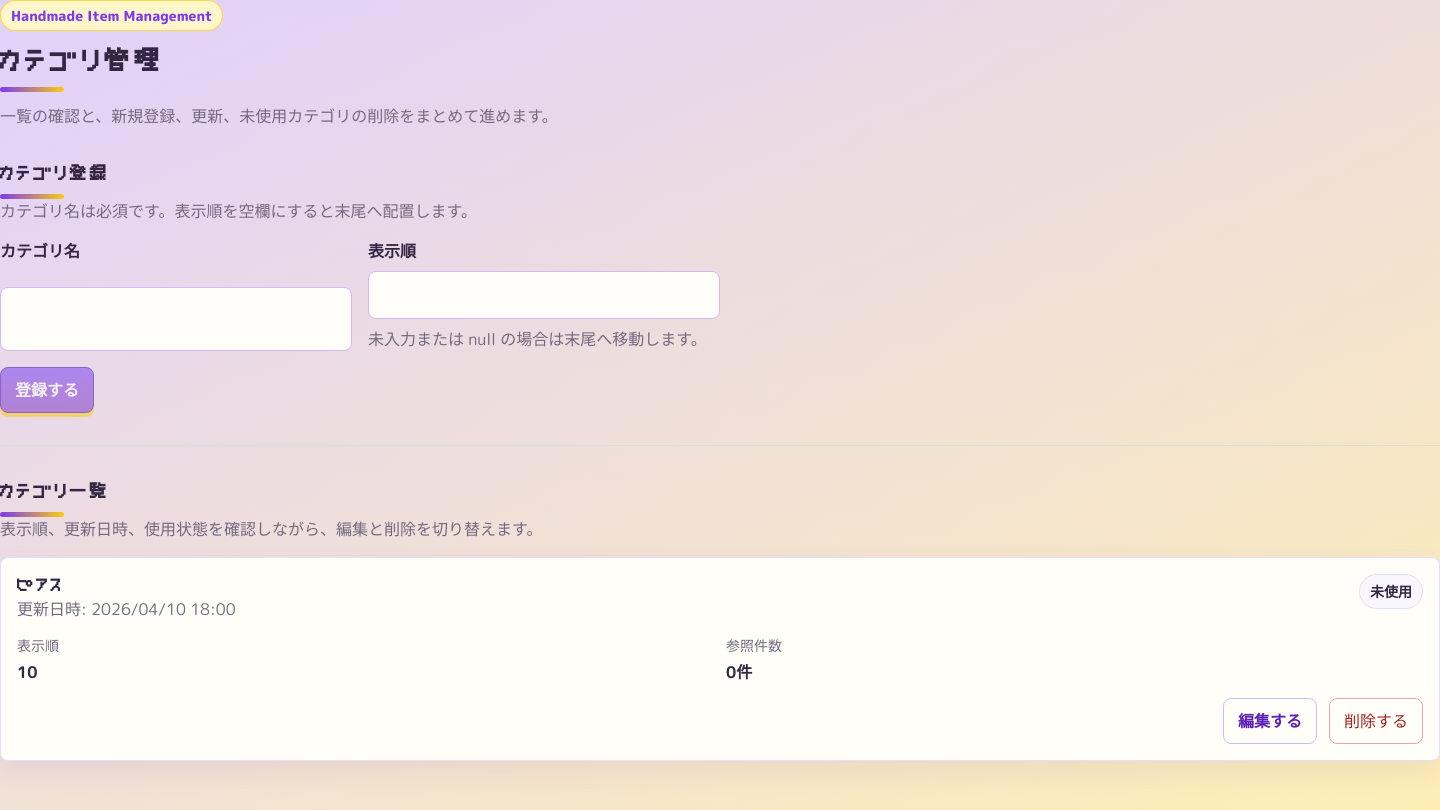
Test: CategoryManagementPage › loads the selected category into the form and updates it
Click the button "編集する": (1270, 721) [1223,698,1317,744]
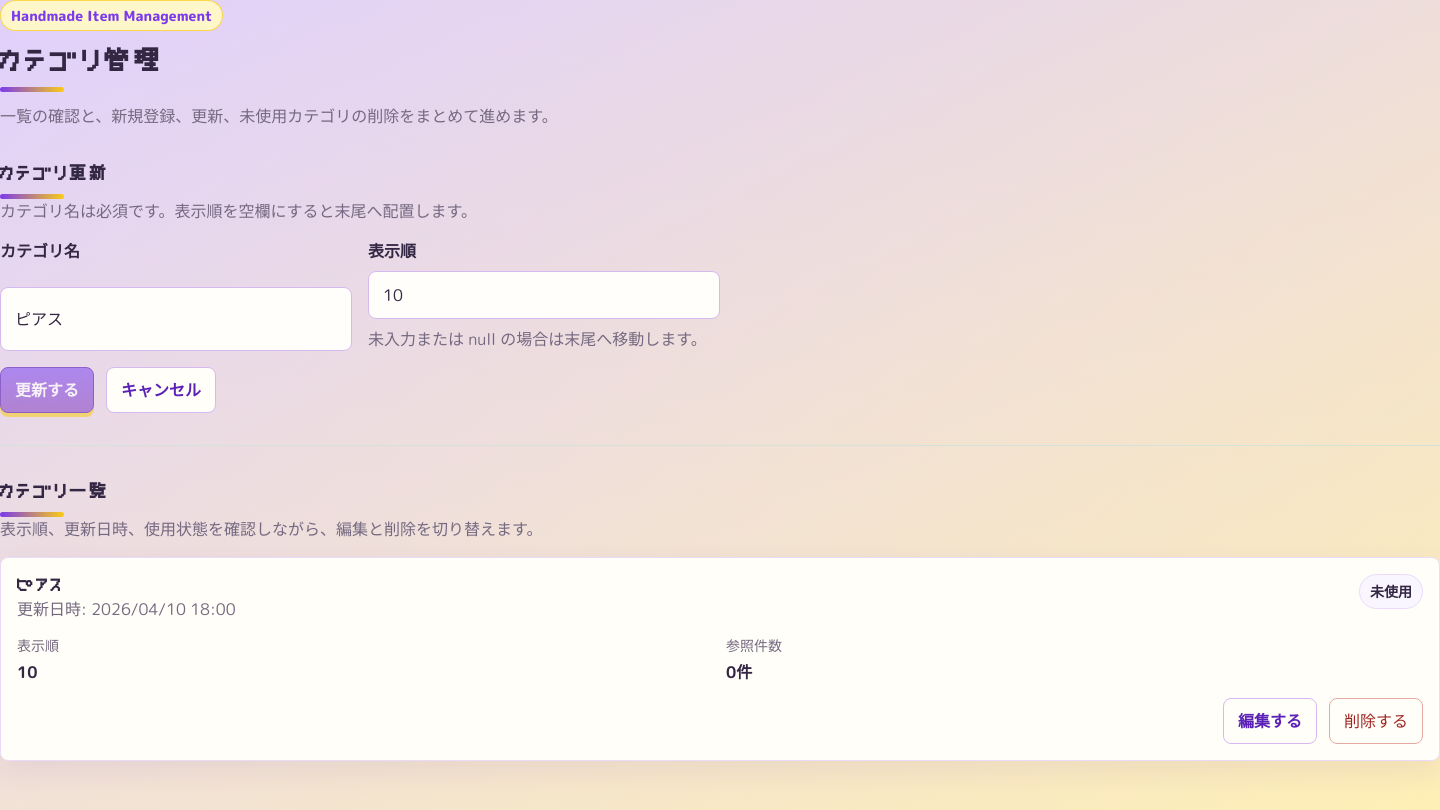
Expected: the field labelled "カテゴリ名" holds "ピアス"
Expected: the number field labelled "表示順" holds "10", [368,271,720,319]
Replace the text in the field labelled "カテゴリ名" with "イヤリング": (176, 319) [0,287,352,351]
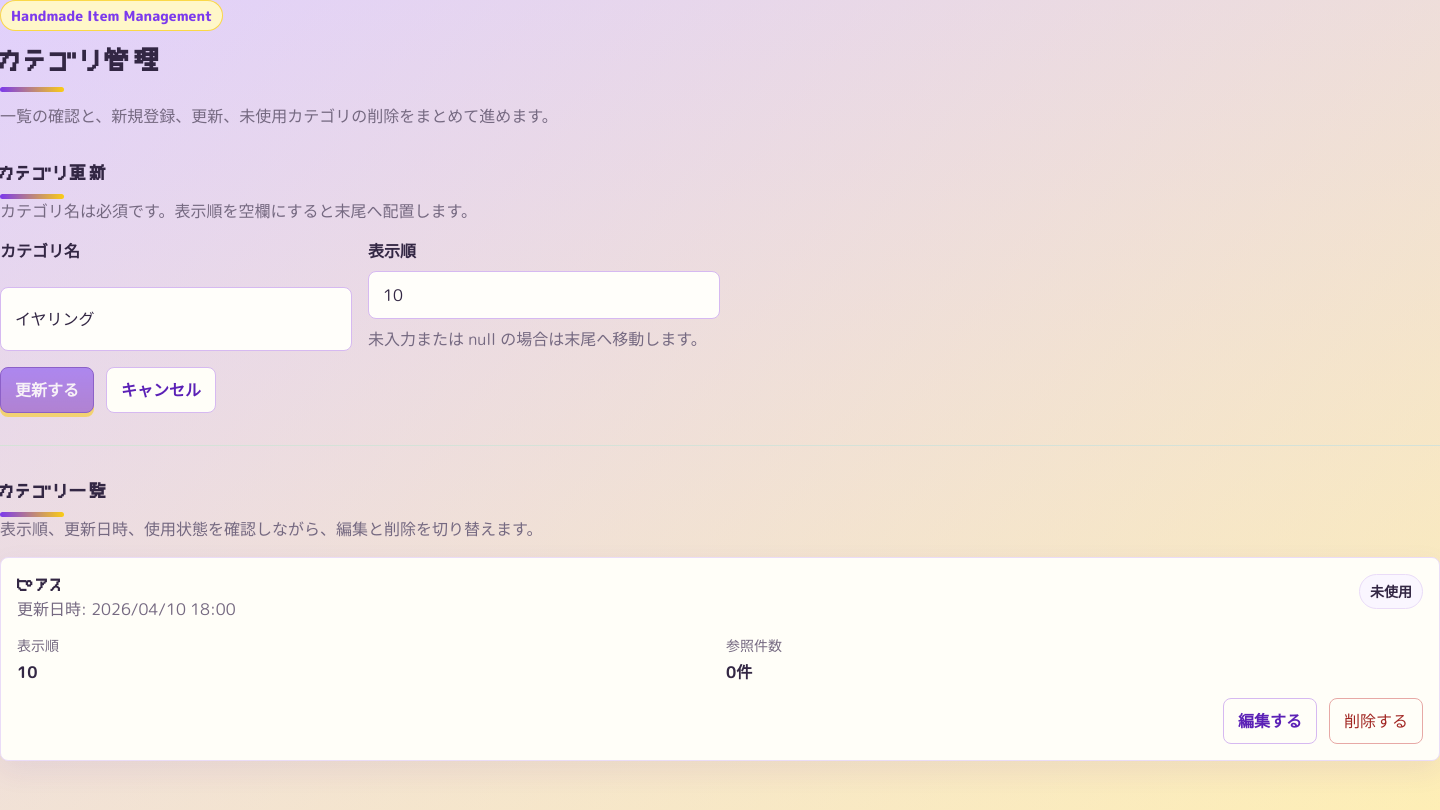
Replace the text in the number field labelled "表示順" with "15": (544, 295) [368,271,720,319]
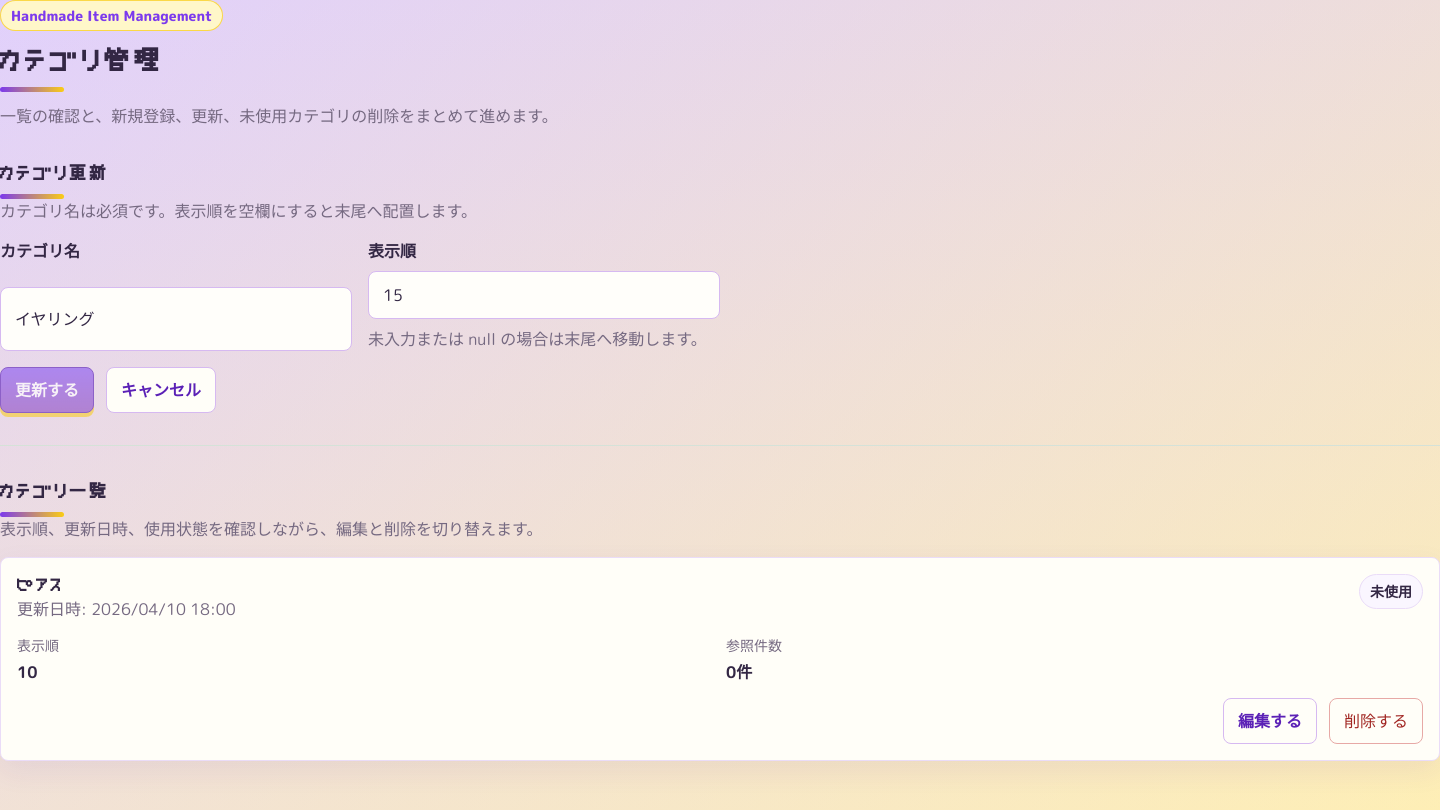
Submit the form "更新する", box [0,239,720,413]
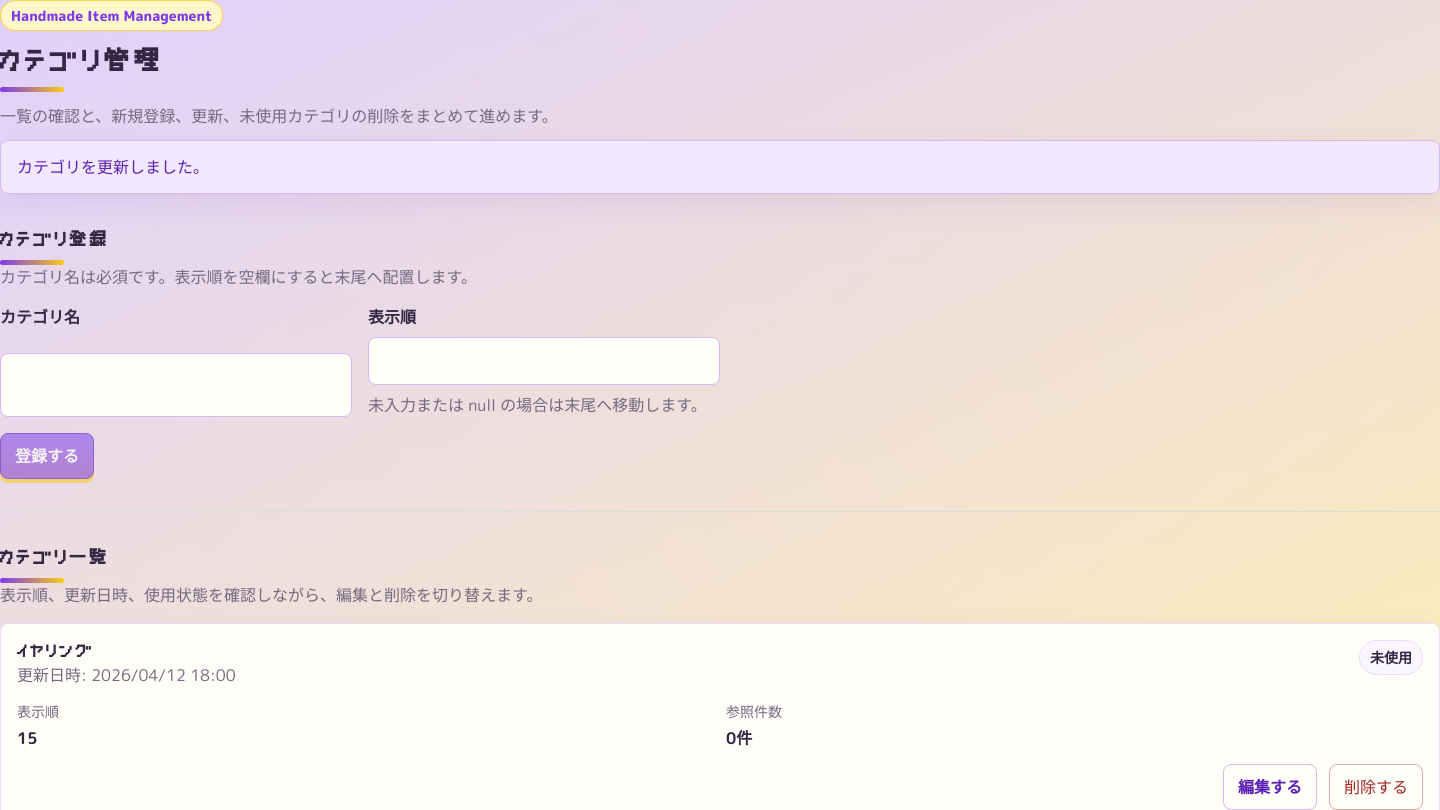
Expected: the text "カテゴリを更新しました。" is shown, [17,156,209,178]
Expected: the heading "イヤリング" is shown, [17,642,94,660]
